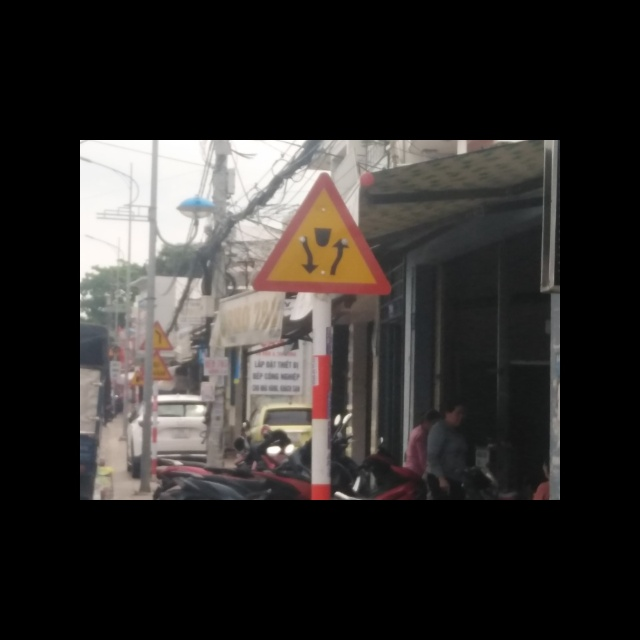Đường đôi: (248, 172, 390, 298)
